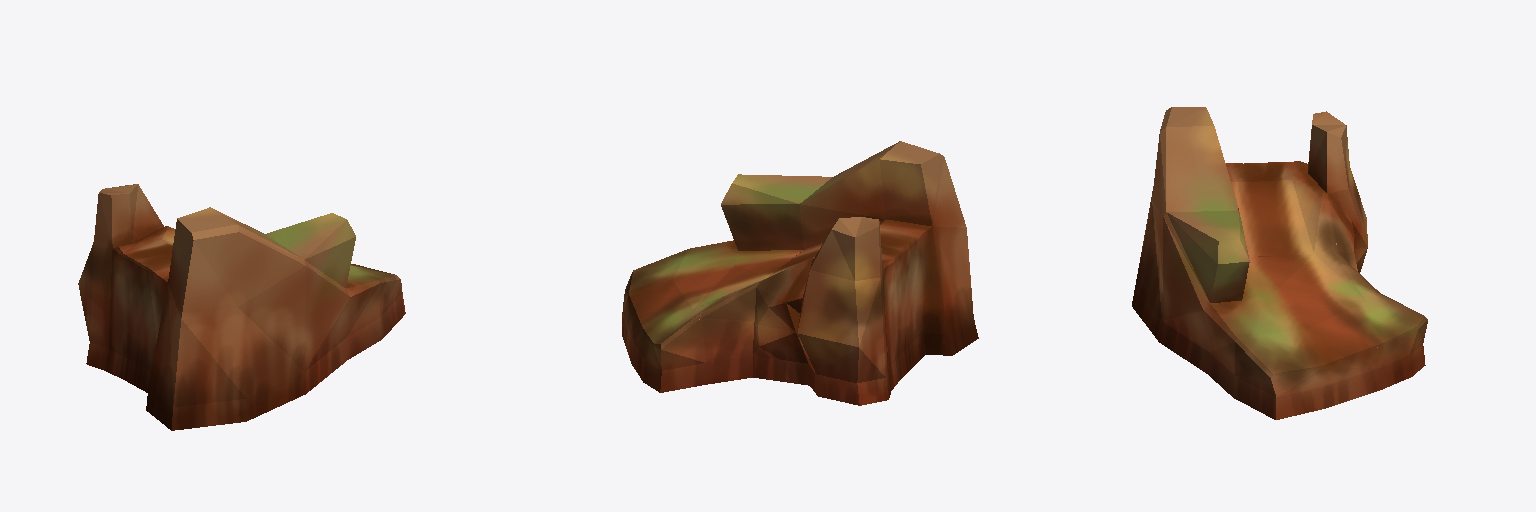
3 renders of one model, left to right at view 1: azimuth 30°, elevation 25°; view 2: azimuth 150°, elevation 25°; view 3: azimuth 270°, elevation 25°, orthographic.
Parts seen in each view (by area): view 1: Cliff_Plane.012; view 2: Cliff_Plane.012; view 3: Cliff_Plane.012.
Part boxes in pixels (left/top/right/bottom): Cliff_Plane.012: left=78, top=184, right=405, bottom=430; Cliff_Plane.012: left=622, top=141, right=978, bottom=405; Cliff_Plane.012: left=1132, top=107, right=1427, bottom=419.
Bounding box in the file's own units: 1349 × 810 × 1174.
Materials: 1 (1 with a texture image).